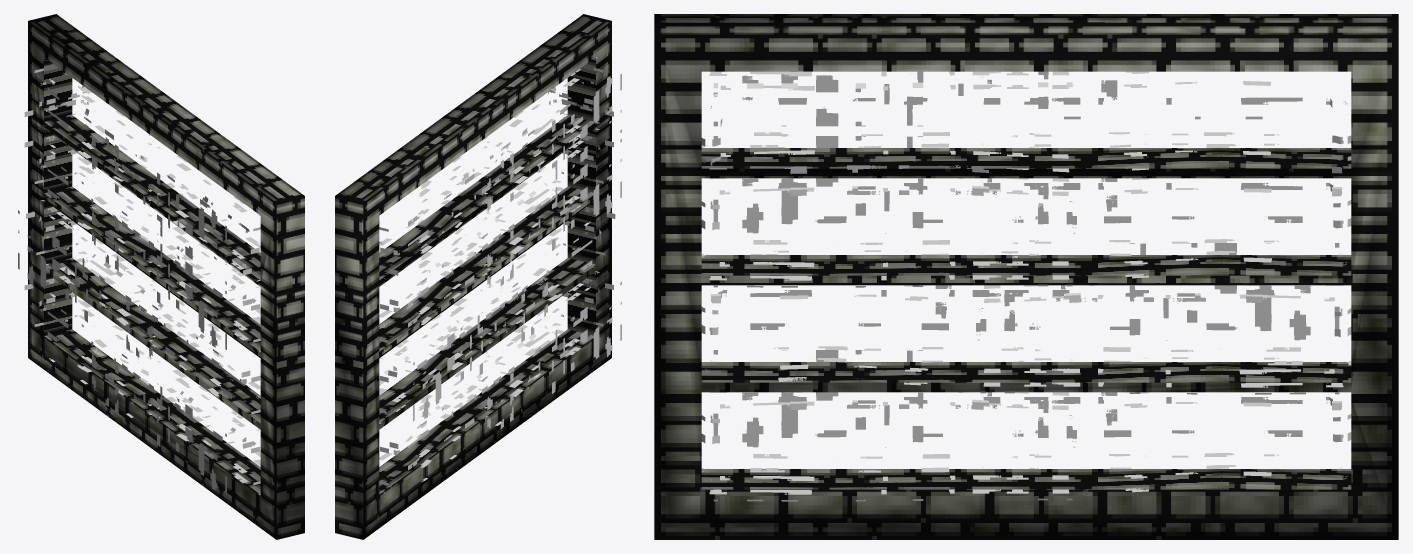
Rendered from Wall_3.fbx.
3 views of the same model, side by side, from view 1: azimuth 30°, elevation 25°; view 2: azimuth 150°, elevation 25°; view 3: azimuth 270°, elevation 25° (orthographic). The views are drawn at different scales.
Parts seen in each view (by area): view 1: Cube.002; view 2: Cube.002; view 3: Cube.002.
Part boxes in pixels (bbox=[...]): Cube.002: bbox=[18, 14, 304, 539]; Cube.002: bbox=[335, 14, 621, 539]; Cube.002: bbox=[654, 14, 1398, 539].
Bounding box in the file's own units: 360 × 1491 × 1991.
Materials: 2 (1 with a texture image).
